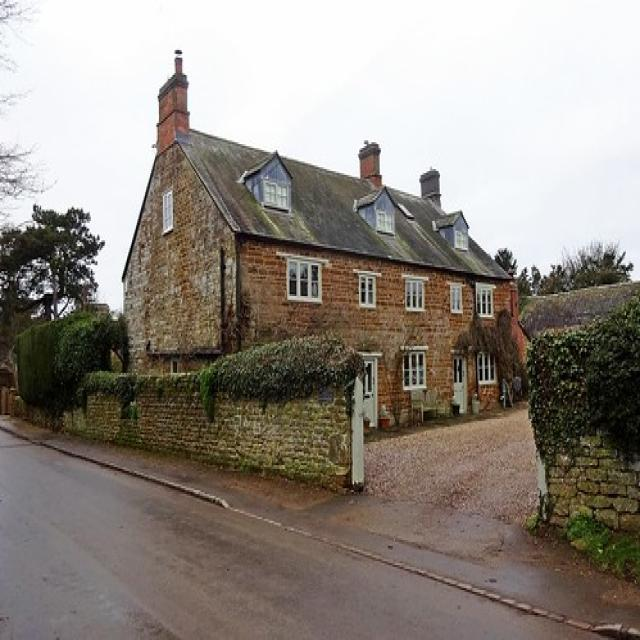building: (119, 68, 520, 445)
